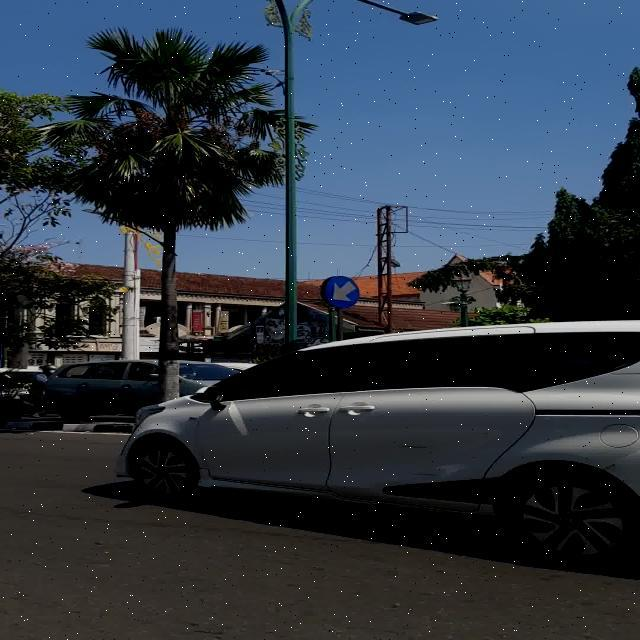Lajur Kiri: (324, 276, 360, 308)
